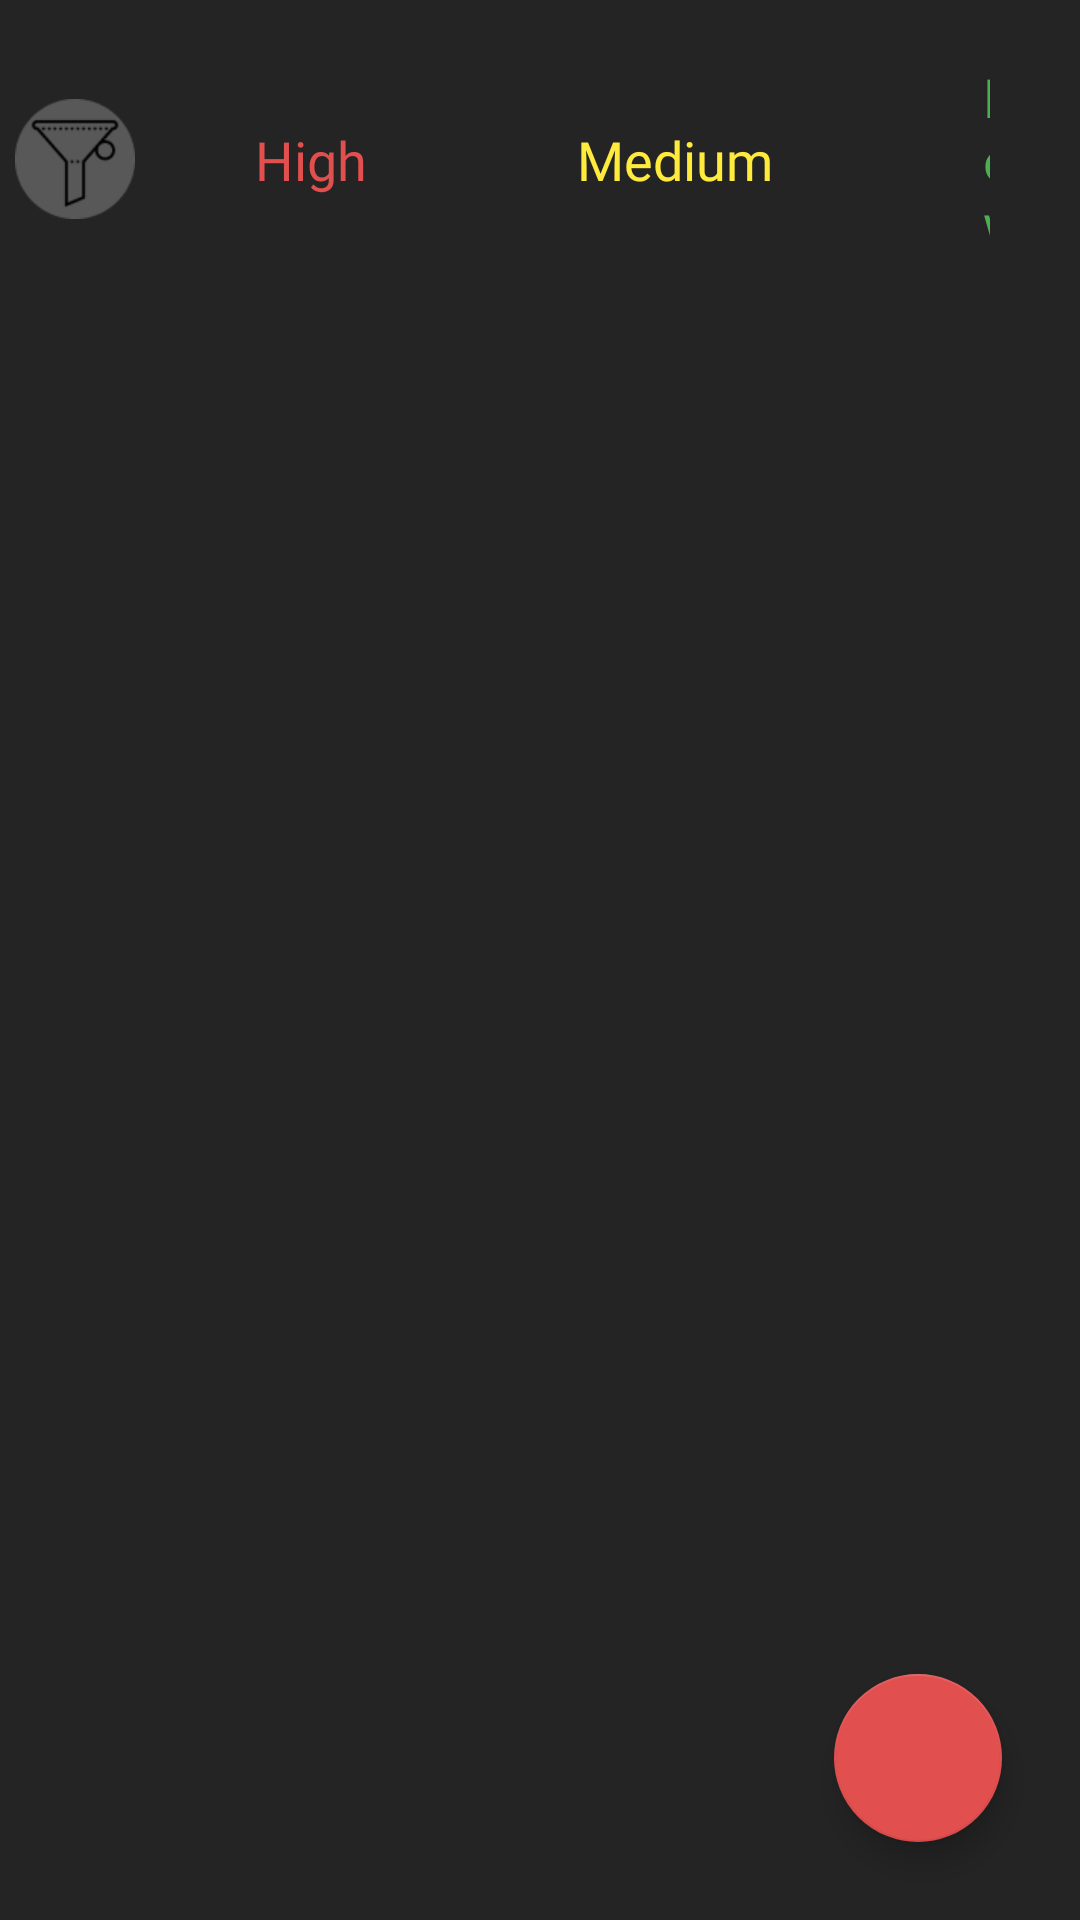

Screen size 1080px x 1920px. Icon name, then its box in pixels as (x1, y1, x2, y2):
filter: (15, 99, 135, 219)
